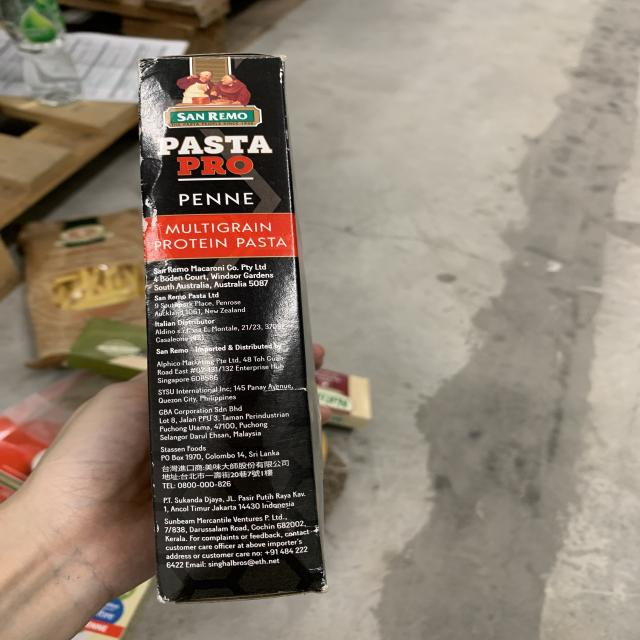object_name: (142, 56, 323, 595)
